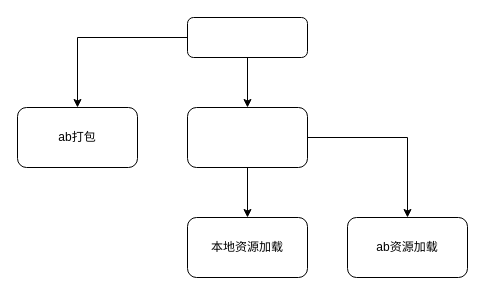
The diagram is 485 pixels wide and 295 high, and some of its shapes have lost their labels. The centre of each missing label's shape, as x and y in pixels:
"UI界面" goes at (x=247, y=37).
"资源加载管理" goes at (x=247, y=137).
